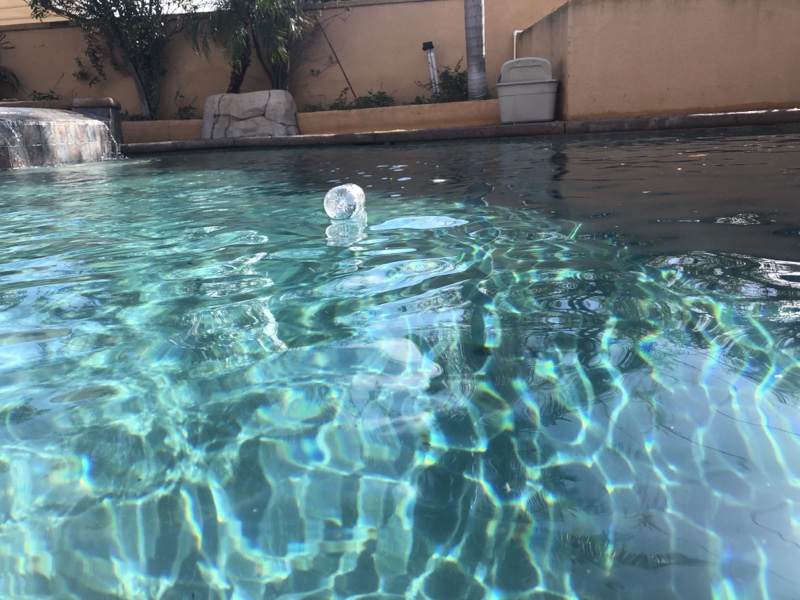Plastic Bottle: (318, 181, 367, 223)
